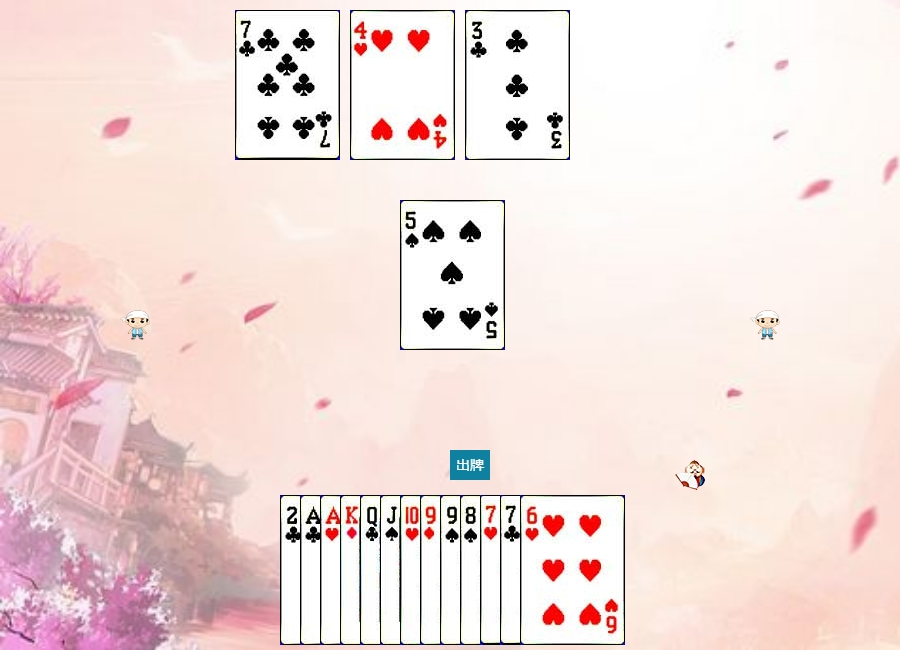10~3: (400, 495, 505, 645)
11~4: (380, 495, 485, 645)
12~2: (360, 495, 465, 645)
13~1: (340, 495, 445, 645)
14~2: (300, 495, 405, 645)
14~3: (320, 495, 425, 645)
15~2: (280, 495, 385, 645)
3~2: (465, 10, 570, 160)
4~3: (350, 10, 455, 160)
5~4: (400, 200, 505, 350)
6~3: (520, 495, 625, 645)
7~2: (235, 10, 340, 160), (500, 495, 605, 645)
7~3: (480, 495, 585, 645)
8~4: (460, 495, 565, 645)
9~1: (420, 495, 525, 645)
9~4: (440, 495, 545, 645)
